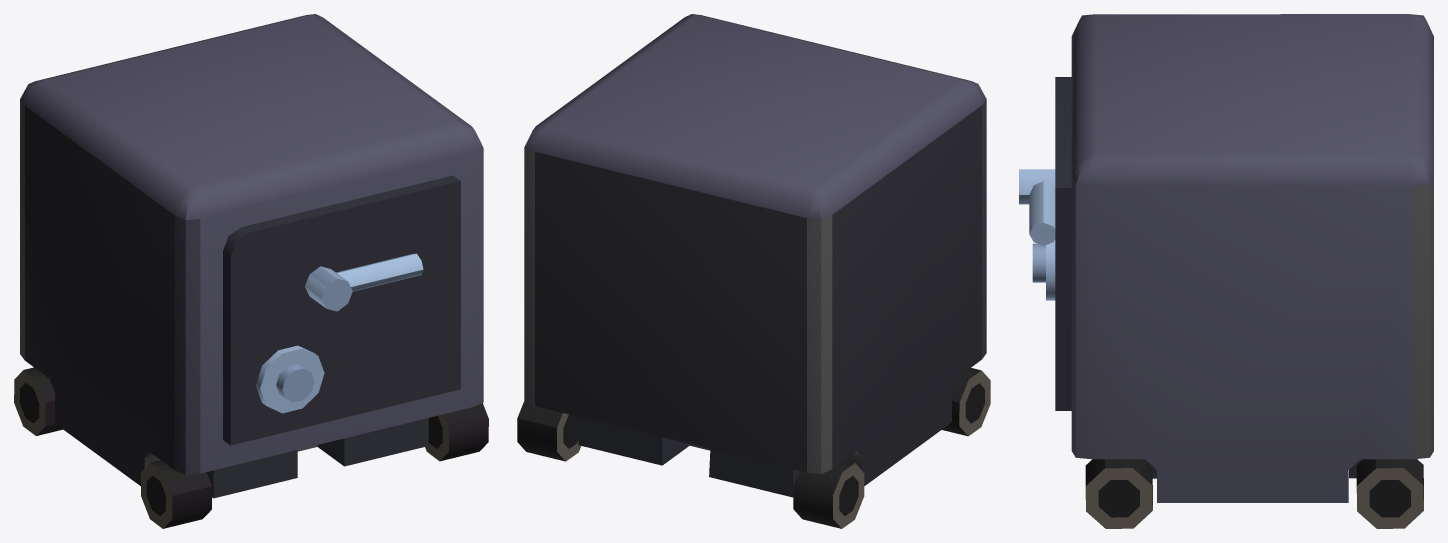
Rendered from office_safe.fbx.
3 views of the same model, side by side, from view 1: azimuth 30°, elevation 25°; view 2: azimuth 150°, elevation 25°; view 3: azimuth 270°, elevation 25° (orthographic). The views are drawn at different scales.
Visible parts, largest first — view 1: polySurface22; view 2: polySurface22; view 3: polySurface22.
Part boxes in pixels (<box>): polySurface22: <box>14,14,488,528</box>; polySurface22: <box>517,14,990,528</box>; polySurface22: <box>1019,14,1433,528</box>.
Bounding box in the file's own units: 0.8075 × 0.8256 × 0.856.
